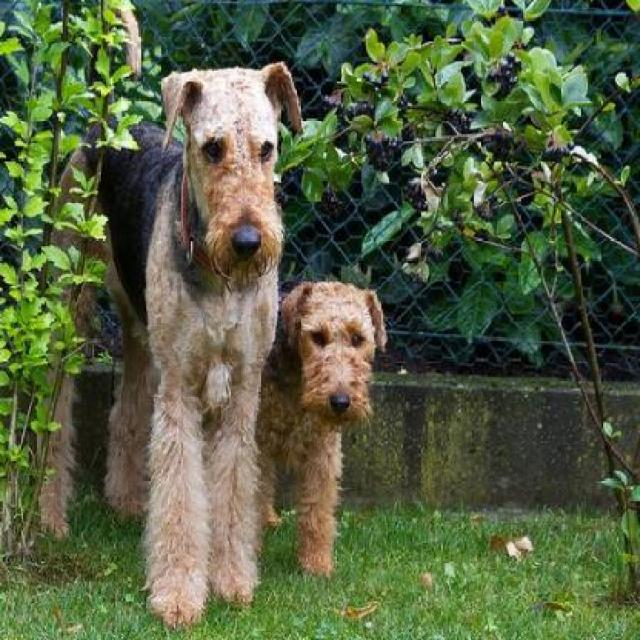animals: (106, 51, 312, 597), (224, 272, 418, 574)
